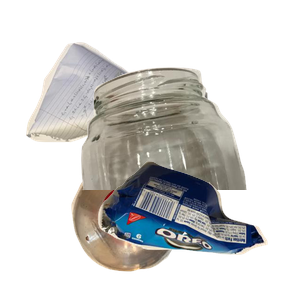glass: (74, 65, 300, 245)
paper: (23, 40, 223, 180)
plastic: (69, 161, 245, 300)
trash: (95, 158, 300, 300)
